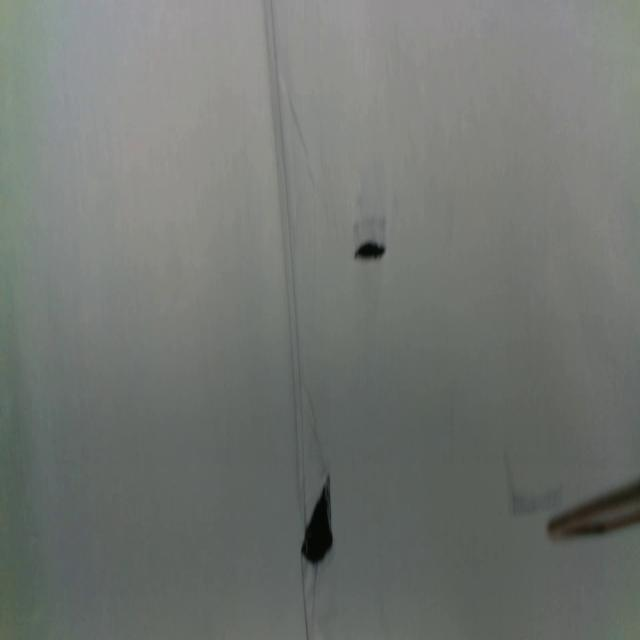hole: (300, 472, 336, 566), (354, 237, 386, 262)
